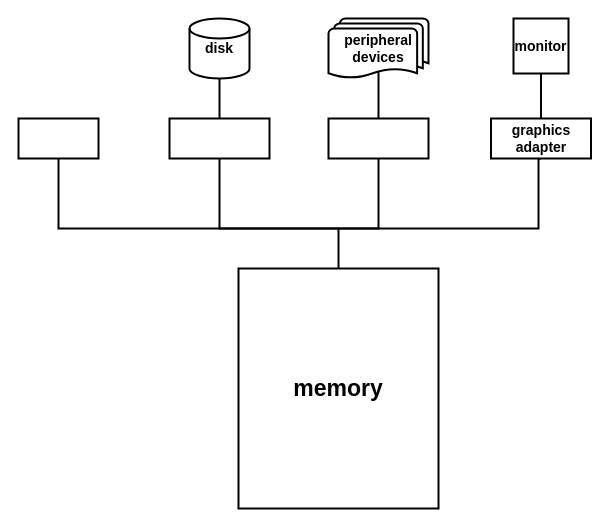
This 609x526 diagram has some shape labels left out. Here are the shapes that lost their labels. From the top down, the centre of each, then its label:
At pixel 58 138: "CPU".
At pixel 219 138: "disk controller".
At pixel 378 138: "USB controller".
